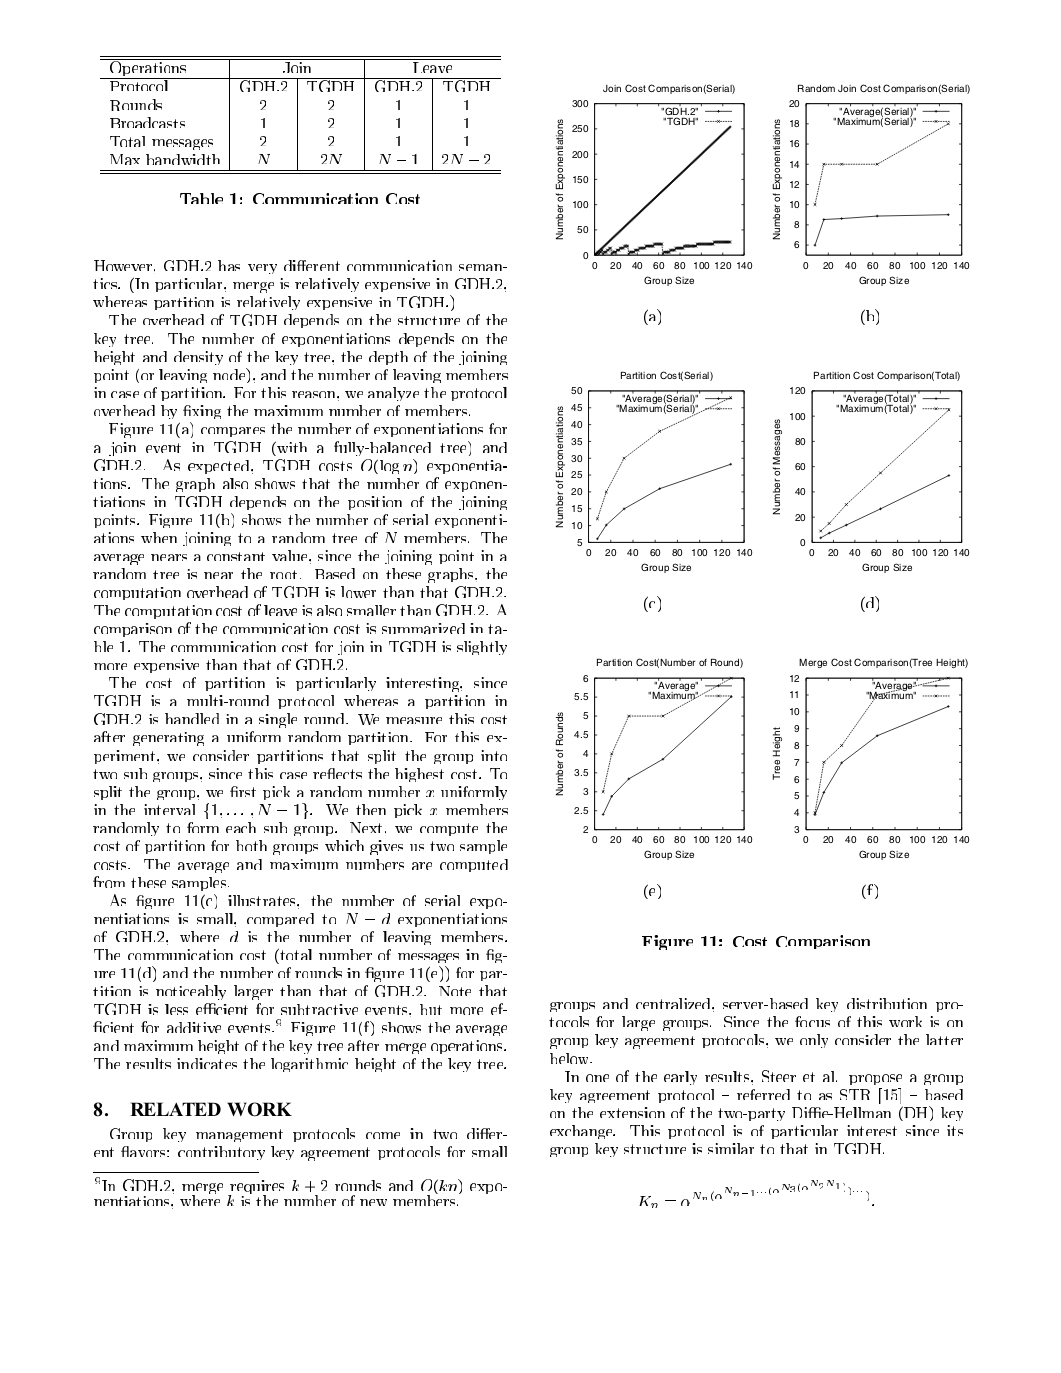Table: (100, 55, 500, 172)
figure: (571, 387, 746, 553), (572, 100, 744, 259), (790, 387, 962, 544), (790, 675, 962, 832), (789, 100, 962, 255), (576, 675, 744, 832)
formula: (639, 1178, 873, 1208)
